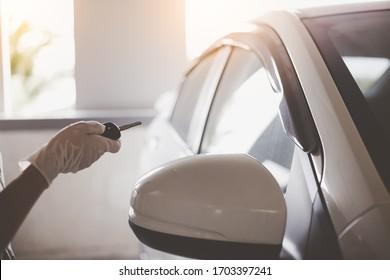gloves: (19, 120, 122, 190)
